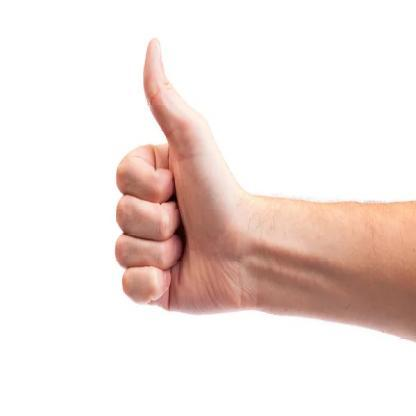thumb_up: (105, 32, 241, 338)
